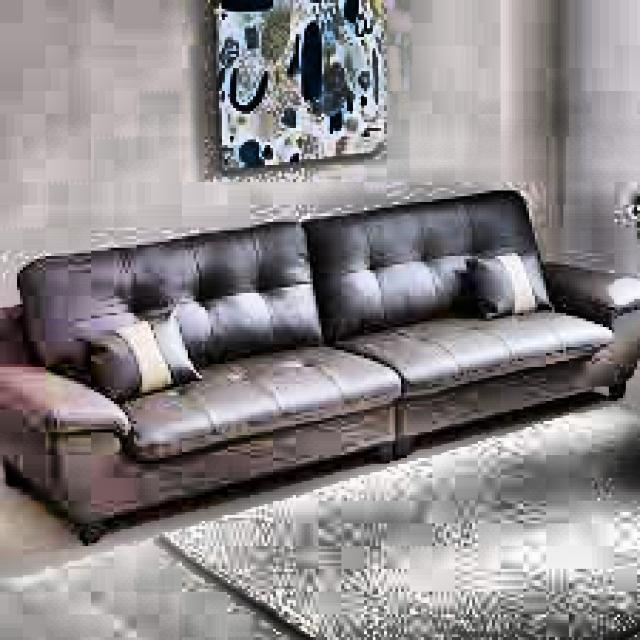sofa: (0, 194, 623, 540)
